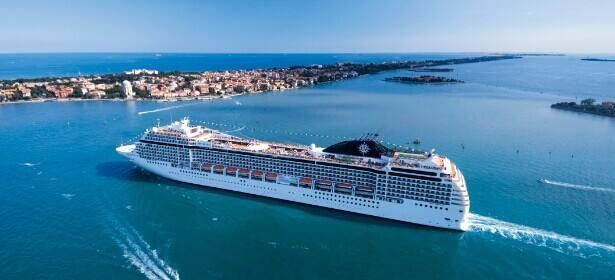youlun: (113, 115, 470, 234)
